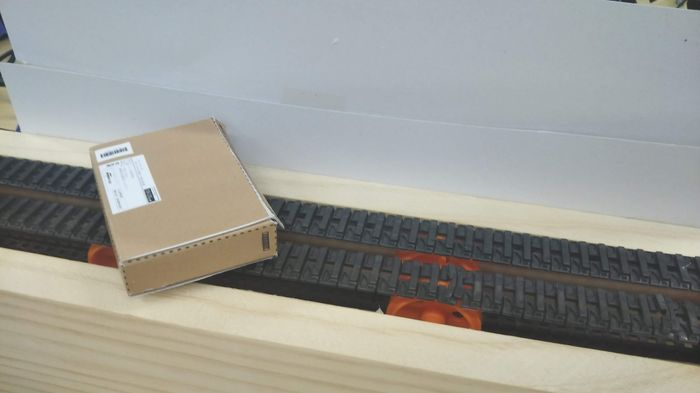box2: (85, 113, 280, 297)
